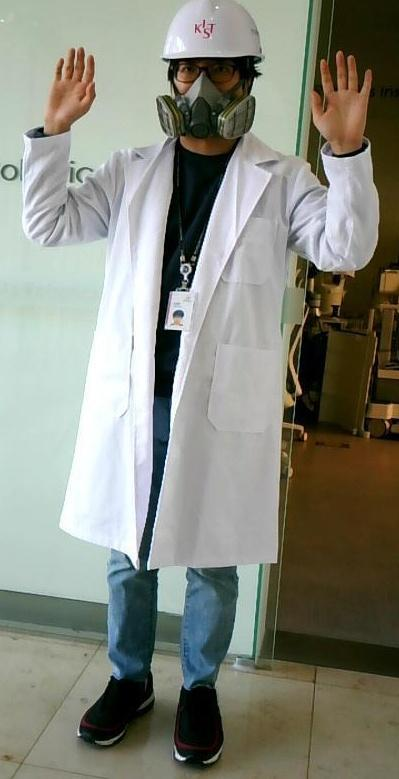lab_coat: (39, 145, 307, 546)
